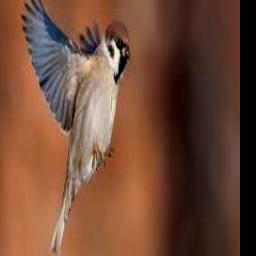Sparrow: (21, 0, 130, 251)
